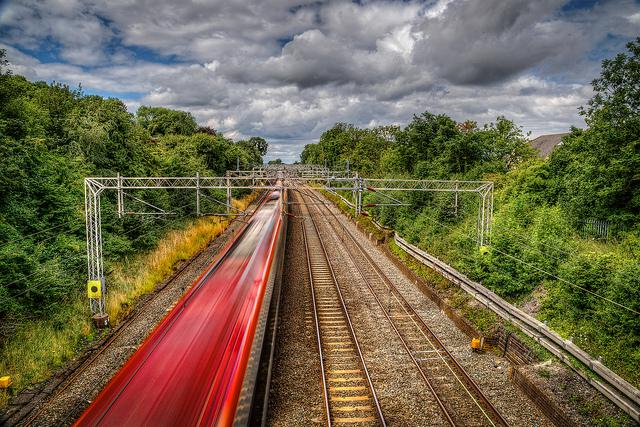Train: (79, 189, 290, 423)
